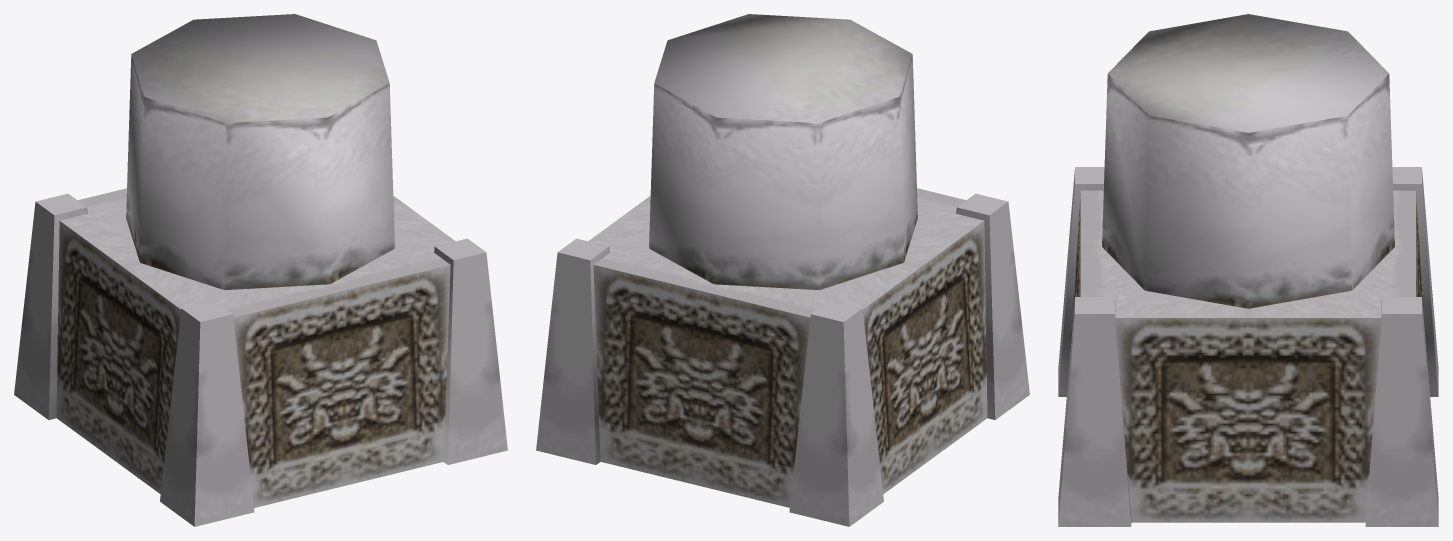
File: general_obj_bigtower09.glb
The picture shows the model from 3 angles, left to right: view 1: azimuth 30°, elevation 25°; view 2: azimuth 150°, elevation 25°; view 3: azimuth 270°, elevation 25°; orthographic projection. The views are drawn at different scales.
Visible parts, largest first — view 1: Sphere01; view 2: Sphere01; view 3: Sphere01.
Part boxes in pixels (x1,y1,x2,y2): Sphere01: (14, 14, 507, 526); Sphere01: (536, 14, 1029, 526); Sphere01: (1058, 14, 1438, 526).
Bounding box in the file's own units: 5.22 × 5.64 × 5.21.
1 material, 1 textured.
